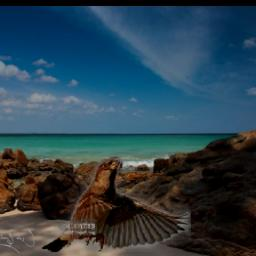Sparrow: (42, 158, 191, 252)
